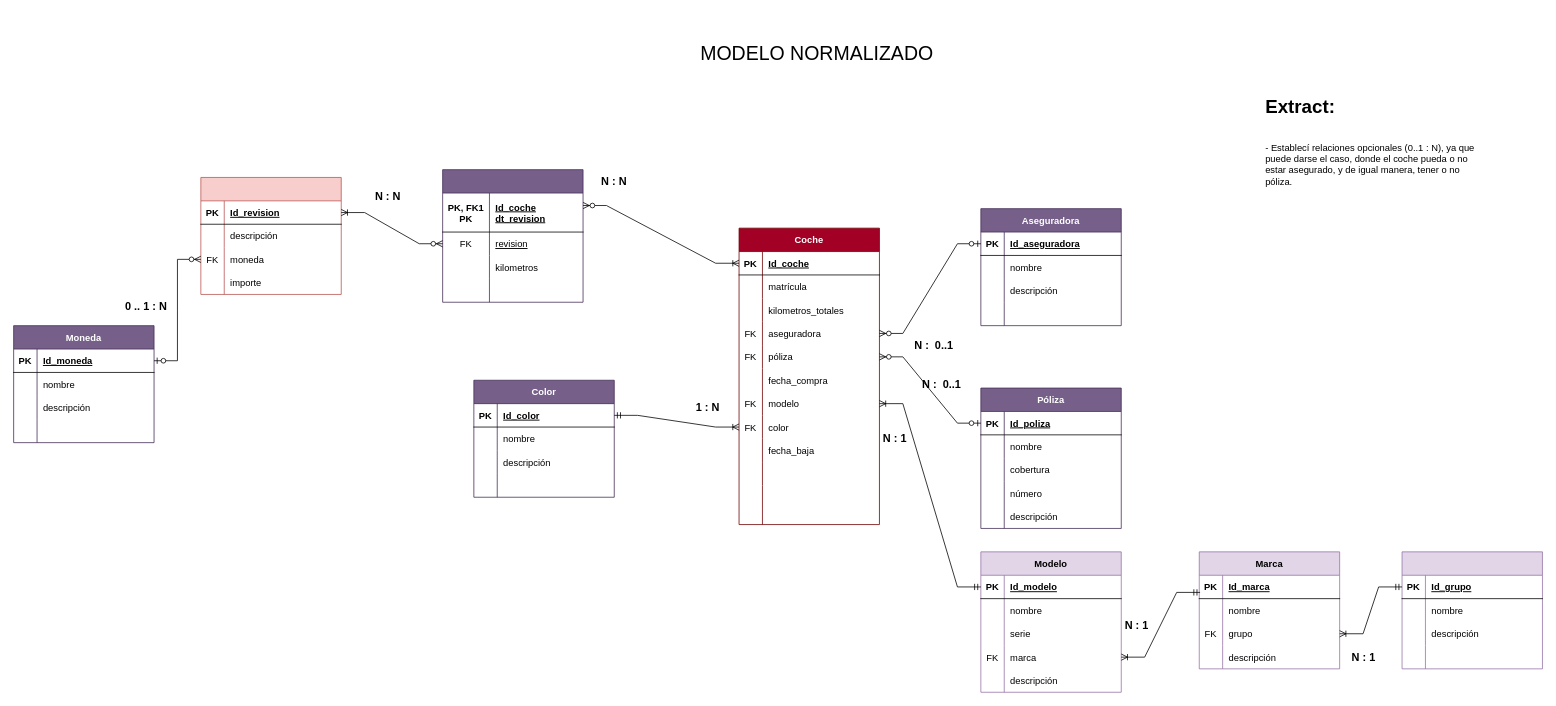
This 1556x706 diagram has some shape labels left out. The shapes that lost their labels are listed below. From the top down, each one's box as (x1, y1, x2, y2) in pixels, then its label:
(200, 177, 341, 294): Revisión
(442, 169, 583, 302): Historico_Revisiones
(1401, 551, 1542, 669): Grupo_Marca
